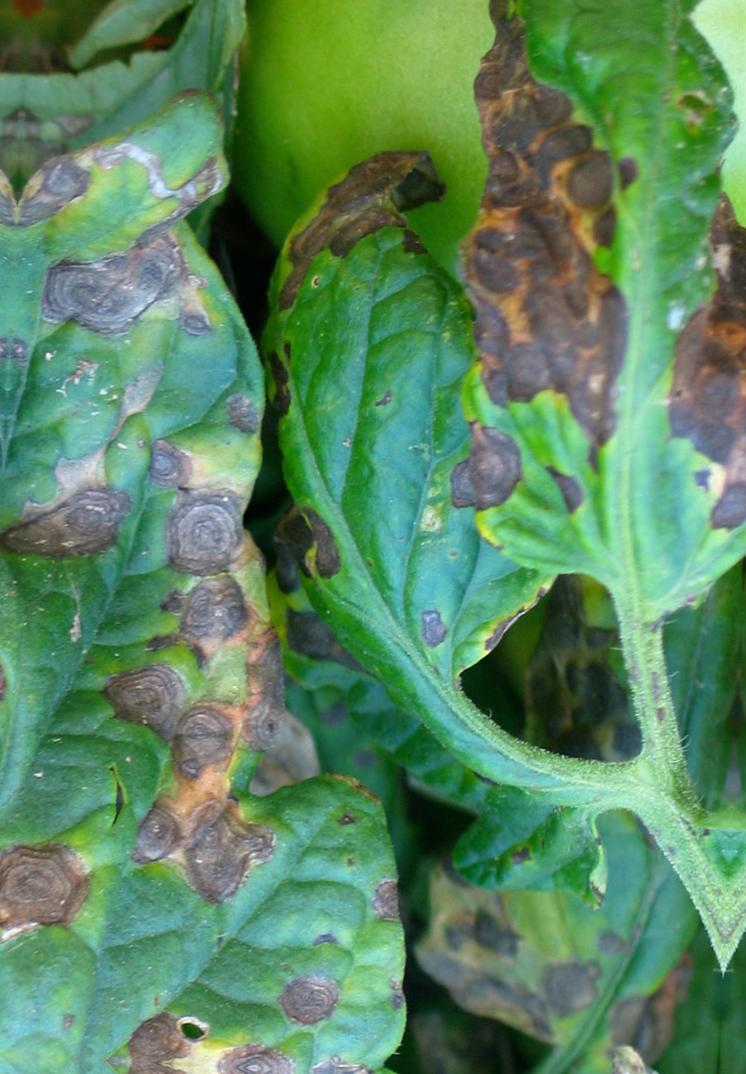Tomato Early blight leaf: (0, 109, 495, 1074), (362, 0, 746, 621), (207, 108, 524, 691)
